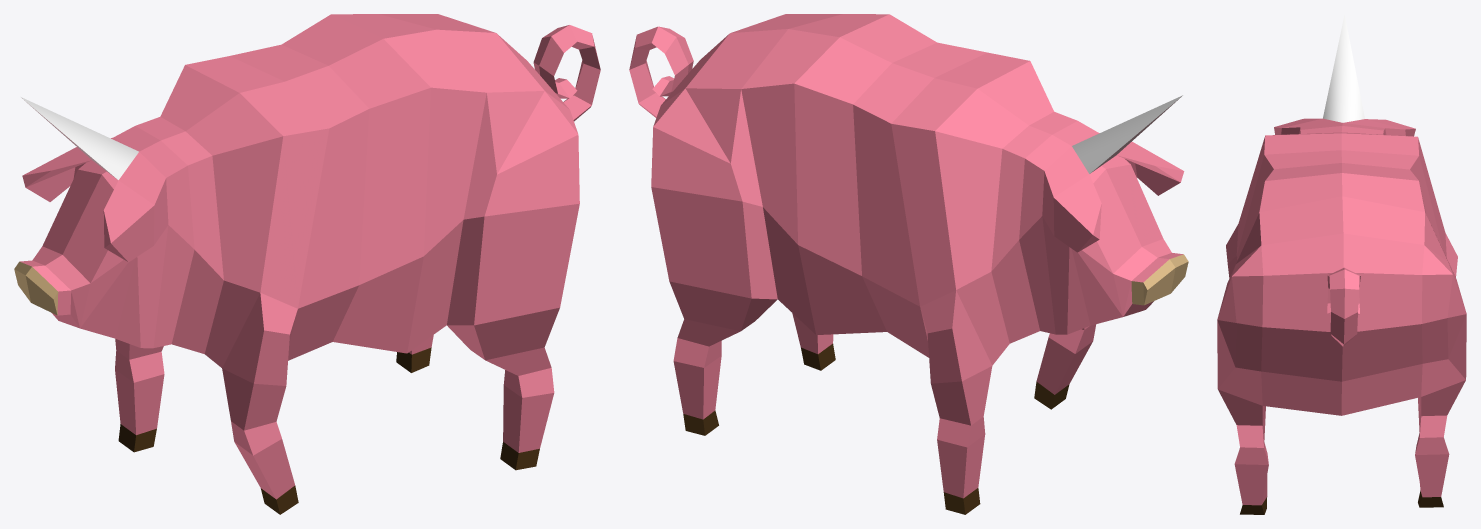
File: pigWalking2.obj
3 renders of one model, left to right at view 1: azimuth 30°, elevation 25°; view 2: azimuth 150°, elevation 25°; view 3: azimuth 270°, elevation 25°, orthographic. The views are drawn at different scales.
Parts seen in each view (by area): view 1: Pig_Cylinder; view 2: Pig_Cylinder; view 3: Pig_Cylinder.
Part boxes in pixels (x1=…): Pig_Cylinder: x1=14, y1=14, x2=600, y2=514; Pig_Cylinder: x1=629, y1=14, x2=1188, y2=514; Pig_Cylinder: x1=1217, y1=15, x2=1466, y2=514.
Bounding box in the file's own units: 22.98 × 16.39 × 11.11.
